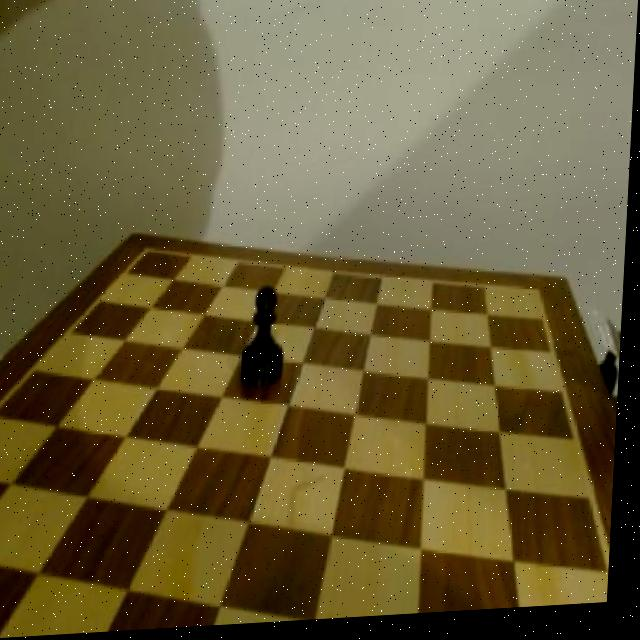black-knight: (237, 281, 299, 397)
